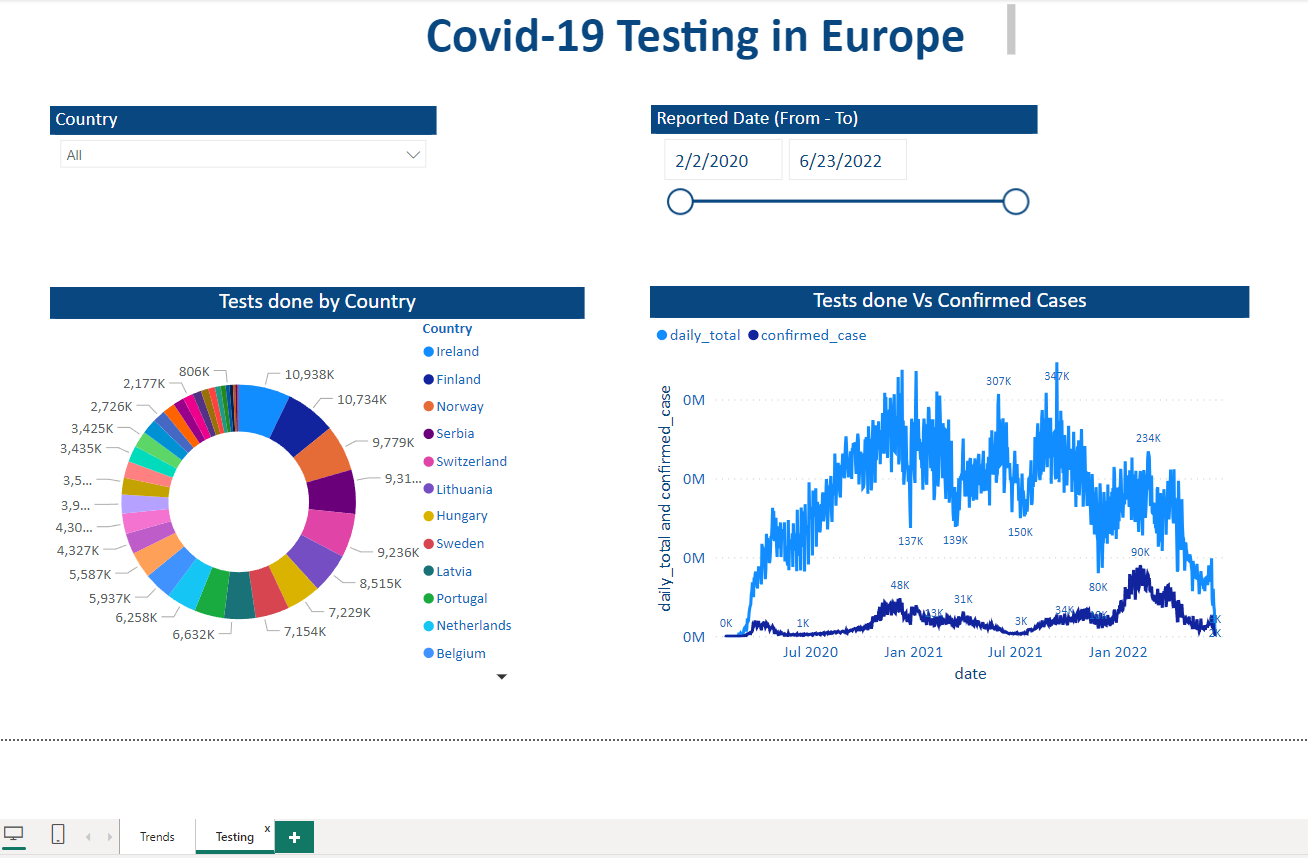

Layout of this report page (visuals, bound fields, positions):
{"tool":"powerbi","page":{"name":"Testing","canvas":[1280,720],"ordinal":1},"visuals":[{"type":"donutChart","title":"Tests done by Country","fields":{"Category":["covid_reporting testing.country"],"Y":["Sum(covid_reporting testing.daily_total)"]},"box":[56,280,520,392],"z":0},{"type":"lineChart","title":"Tests done Vs Confirmed Cases","fields":{"Category":["covid_reporting testing.date"],"Y":["Sum(covid_reporting testing.daily_total)","Sum(covid_reporting testing.confirmed_case)"]},"box":[640,279.6,583.5,392.7],"z":1000},{"type":"slicer","title":"Reported Date (From - To)","fields":{"Values":["covid_reporting testing.date"]},"box":[640.5,103.6,376.1,120.7],"z":2000},{"type":"slicer","title":"Country","fields":{"Values":["covid_reporting testing.country"]},"box":[56,104.3,375.7,119.7],"z":3000},{"type":"textbox","box":[376,0,624,64],"z":4000}]}

Visuals, with their boxes on the page's 1280x720 design canvas (x1, y1, x2, y2). These are canvas units, not pixel positions in the 1308x858 screenshot, which may show the page scaled, cropped or inside an application window:
"Tests done by Country" donutChart: [56,280,576,672]
"Tests done Vs Confirmed Cases" lineChart: [640,280,1224,672]
"Reported Date (From - To)" slicer: [640,104,1017,224]
"Country" slicer: [56,104,432,224]
textbox: [376,0,1000,64]
